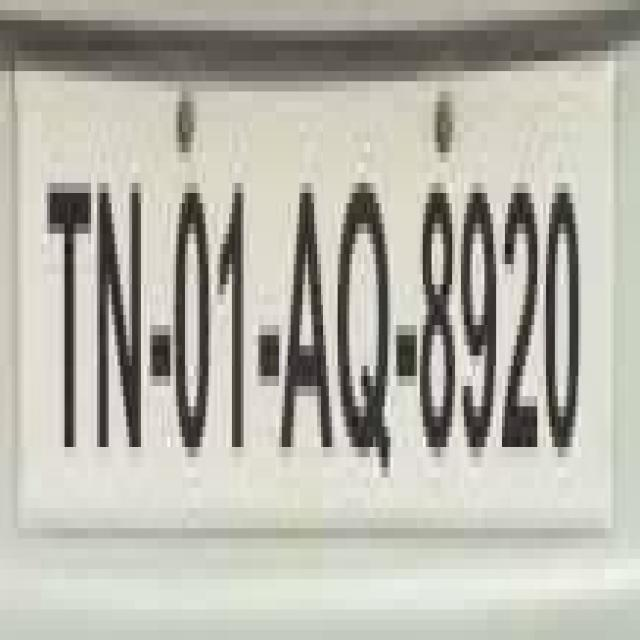license_plate: (29, 20, 634, 549)
